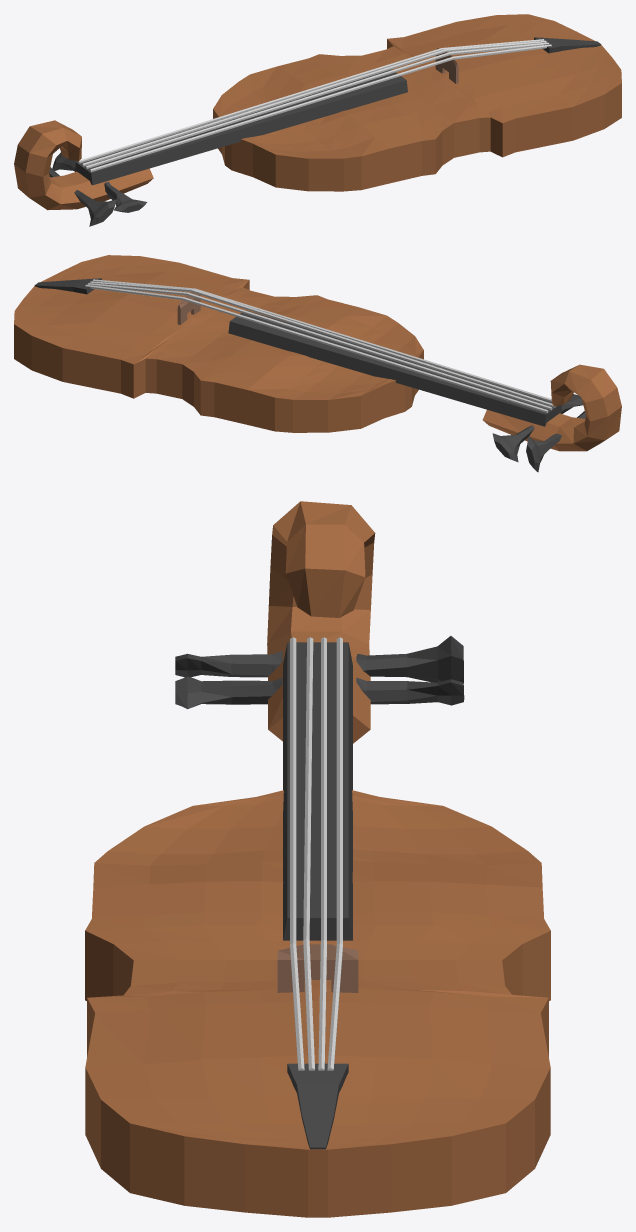
File: FBXCompleteViolin.fbx
The picture shows the model from 3 angles, top to bottom: view 1: azimuth 30°, elevation 25°; view 2: azimuth 150°, elevation 25°; view 3: azimuth 270°, elevation 25°; orthographic projection. The views are drawn at different scales.
Visible parts, largest first — view 1: CompleteViolin; view 2: CompleteViolin; view 3: CompleteViolin.
Boxes of the visible parts, x1=… form: CompleteViolin: x1=14, y1=14, x2=621, y2=226; CompleteViolin: x1=14, y1=255, x2=621, y2=472; CompleteViolin: x1=85, y1=501, x2=550, y2=1217.
Size of the model in its own units: 4.23 by 0.5913 by 1.47.
